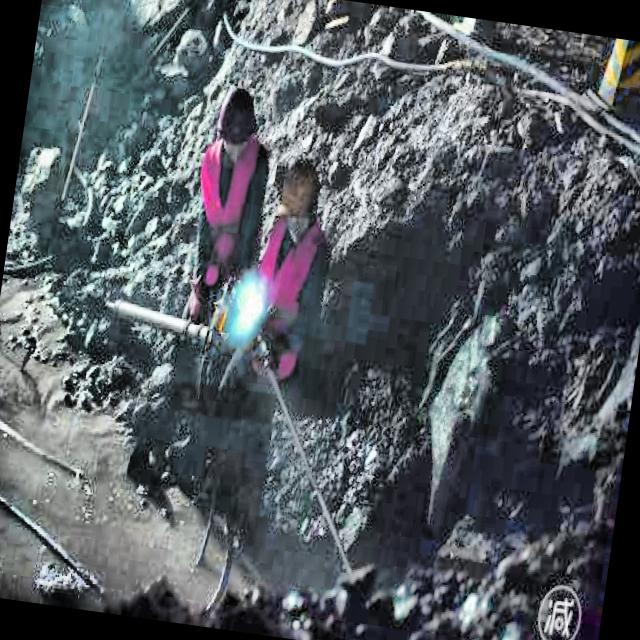helmet: (268, 156, 324, 233), (211, 84, 263, 166)
